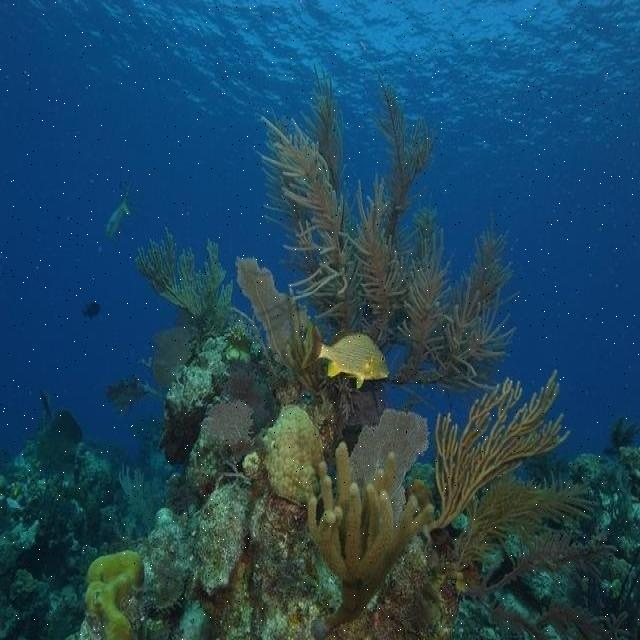aquatic plants: (255, 81, 513, 395), (307, 443, 436, 628), (432, 370, 568, 527), (451, 473, 603, 570), (235, 256, 322, 387), (468, 528, 603, 594), (134, 228, 224, 318), (493, 600, 634, 638)
fish: (305, 328, 391, 386), (107, 189, 133, 237)
sea-floor: (82, 284, 460, 639)
